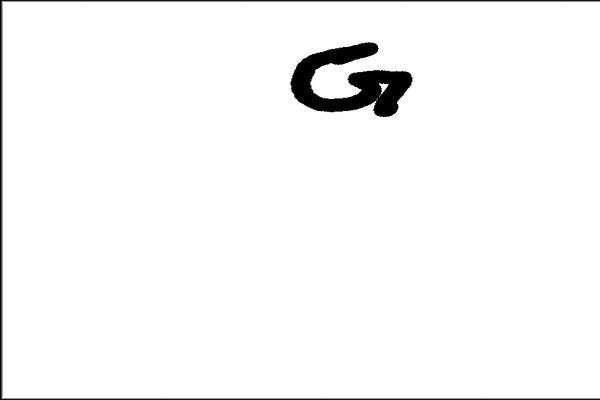G: (284, 37, 415, 122)
